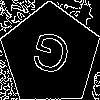G: (25, 30, 74, 85)
